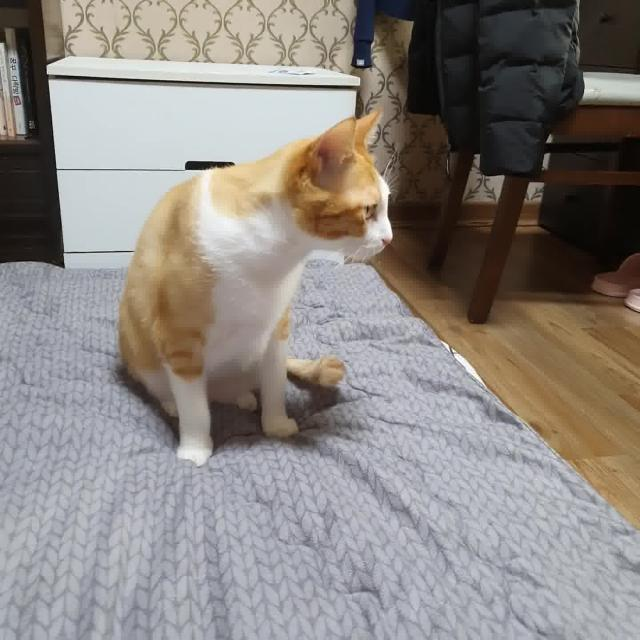cat: (107, 104, 397, 468)
